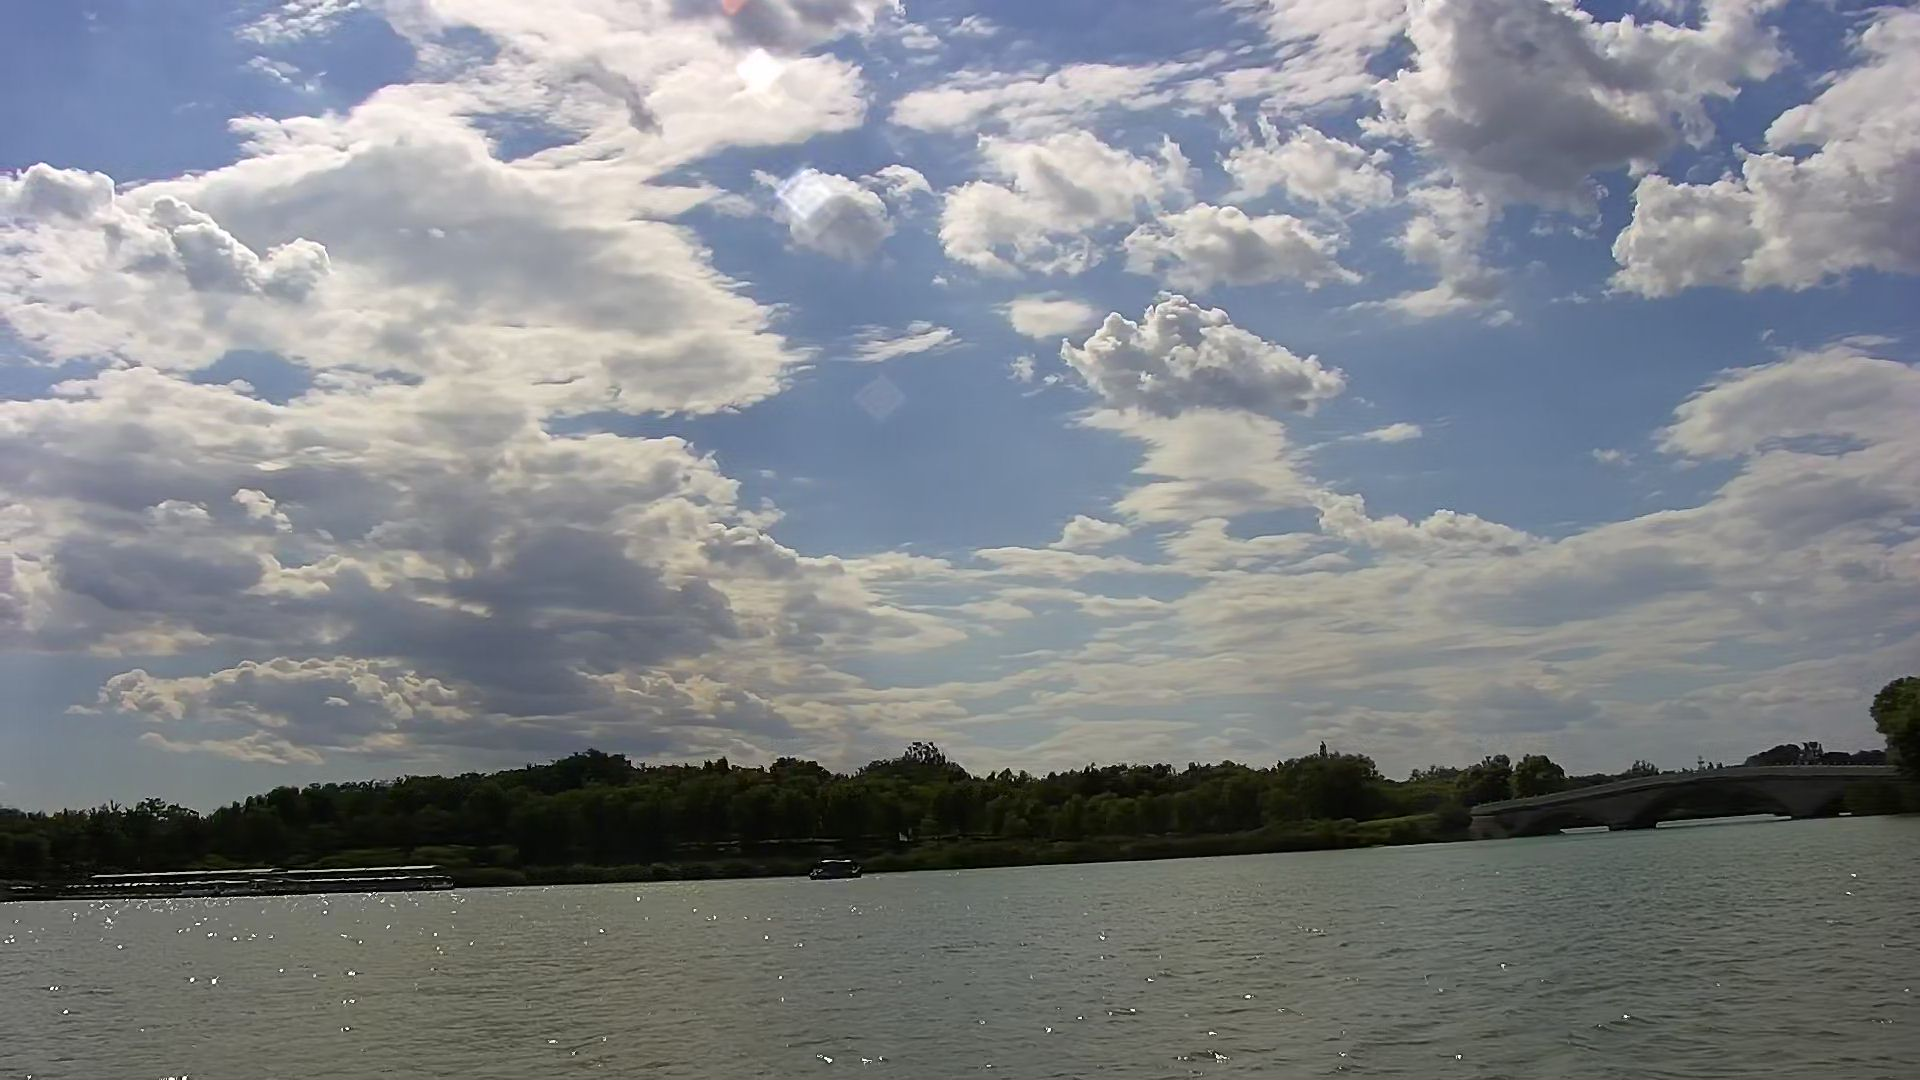boat: (810, 852, 855, 885)
bridge: (1474, 761, 1915, 827)
harbor: (84, 860, 448, 887)
